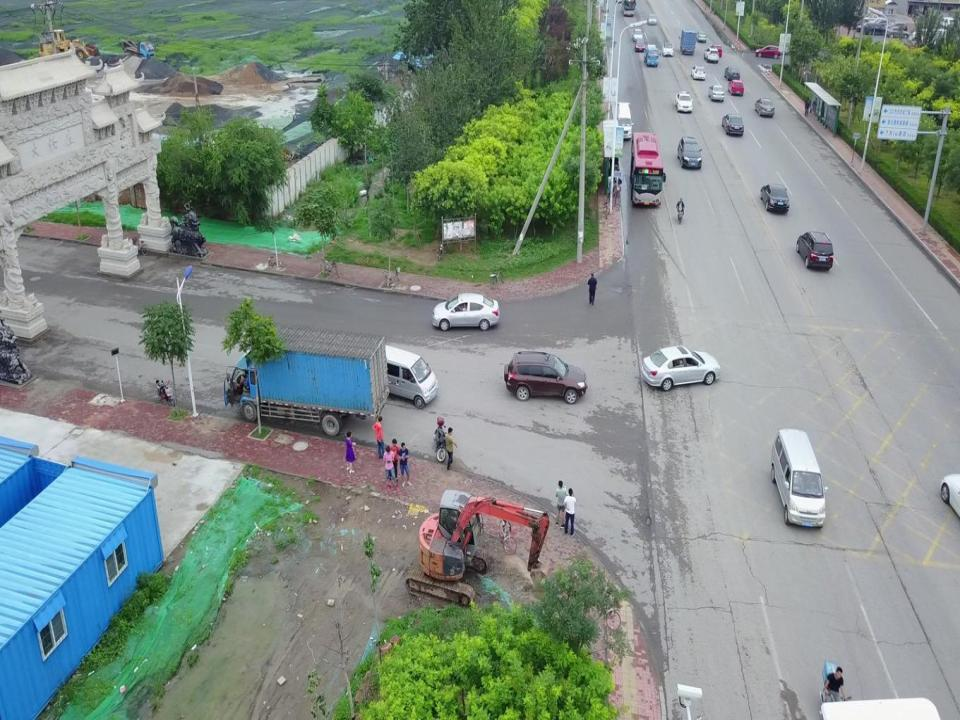bus: (629, 130, 666, 207)
car: (502, 349, 588, 403), (640, 344, 722, 391), (430, 290, 500, 330), (795, 229, 833, 271), (759, 182, 790, 214), (677, 134, 702, 166), (721, 111, 745, 137), (755, 95, 775, 120), (753, 44, 784, 58), (674, 91, 693, 113), (726, 78, 745, 96), (620, 0, 639, 17), (689, 64, 706, 81), (707, 85, 724, 102), (703, 47, 719, 61), (661, 43, 675, 58), (646, 12, 658, 26), (634, 38, 645, 50), (696, 30, 707, 42), (633, 28, 643, 40), (712, 44, 722, 56)
truck: (216, 316, 391, 437), (678, 28, 696, 56), (643, 44, 659, 67)
van: (770, 427, 830, 530), (360, 342, 438, 408), (614, 100, 634, 141)
